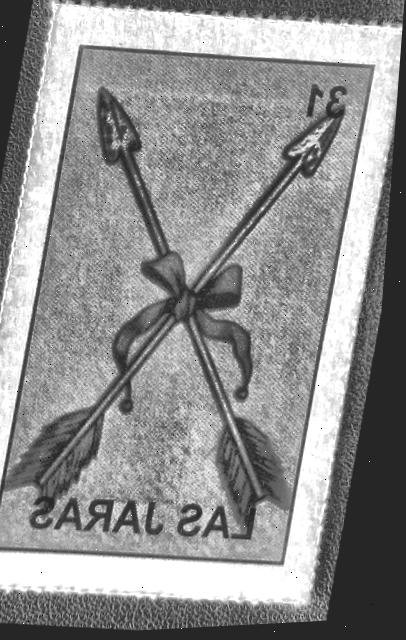Las Jaras: (0, 6, 396, 608)
